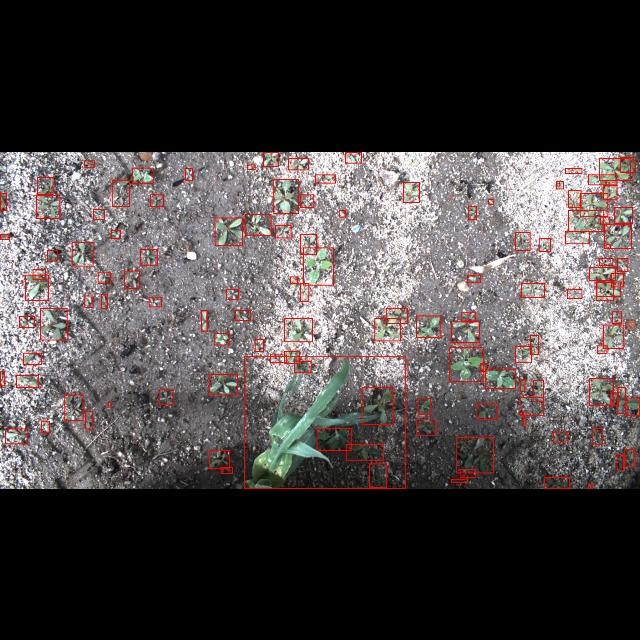crop: (244, 356, 406, 488)
weed: (456, 438, 494, 472), (449, 347, 483, 381), (362, 388, 392, 424), (303, 248, 333, 284), (41, 308, 68, 339), (274, 178, 298, 212), (215, 217, 242, 245), (317, 428, 351, 450), (568, 210, 604, 230), (599, 158, 631, 180), (284, 318, 312, 342), (589, 378, 613, 406), (604, 224, 632, 248), (580, 192, 608, 215), (25, 274, 49, 300), (346, 444, 384, 460), (208, 374, 238, 394), (485, 368, 515, 388), (375, 318, 401, 340), (451, 322, 479, 342), (245, 213, 271, 234), (36, 195, 59, 218), (417, 315, 441, 337), (602, 324, 624, 348), (72, 241, 92, 265), (112, 179, 130, 205), (65, 394, 83, 420), (520, 397, 544, 415), (369, 463, 386, 487), (597, 280, 621, 296), (589, 266, 615, 280), (209, 450, 229, 468), (6, 428, 27, 444), (387, 307, 408, 323), (596, 282, 614, 300), (403, 182, 419, 202), (133, 167, 153, 183), (300, 233, 316, 253), (565, 230, 589, 243), (522, 282, 544, 296), (477, 404, 498, 418), (615, 206, 633, 222), (37, 176, 53, 194), (140, 248, 158, 264), (124, 270, 140, 288), (416, 420, 436, 434), (588, 174, 616, 184), (16, 375, 38, 387), (544, 478, 570, 488), (515, 346, 531, 362), (516, 232, 530, 250), (626, 397, 640, 415), (288, 157, 308, 169), (620, 156, 634, 172), (22, 352, 42, 363), (534, 379, 544, 401), (618, 387, 626, 413), (568, 190, 580, 207), (264, 151, 278, 165), (159, 390, 173, 404), (603, 185, 617, 199), (418, 398, 430, 414), (284, 351, 300, 363), (295, 360, 311, 372), (276, 225, 290, 238), (300, 283, 310, 301), (625, 449, 635, 466), (300, 194, 314, 206), (611, 272, 623, 286), (592, 428, 602, 444), (214, 334, 230, 344), (566, 288, 582, 298), (345, 152, 361, 162), (315, 174, 335, 182), (531, 334, 539, 354), (150, 194, 163, 206), (226, 288, 238, 300), (539, 238, 551, 250), (554, 432, 568, 442), (20, 316, 34, 326), (236, 310, 250, 320), (32, 269, 46, 279), (201, 310, 207, 332), (270, 354, 286, 362), (460, 469, 476, 477), (616, 454, 624, 470), (618, 258, 628, 270), (98, 272, 110, 282), (612, 311, 622, 323), (468, 205, 476, 219), (148, 298, 162, 306), (462, 312, 476, 320), (610, 391, 618, 405), (94, 208, 105, 218), (0, 192, 6, 210), (47, 250, 57, 260), (468, 274, 480, 282), (86, 412, 92, 428), (255, 339, 263, 351), (41, 421, 49, 432), (0, 371, 6, 385), (101, 294, 107, 308), (185, 167, 192, 179), (520, 378, 526, 392), (85, 296, 93, 306), (597, 345, 607, 353), (600, 216, 610, 224), (220, 467, 232, 473), (600, 258, 612, 264), (556, 180, 564, 188), (566, 168, 582, 172), (112, 229, 120, 237), (451, 479, 467, 483), (84, 160, 94, 166), (480, 362, 486, 372), (290, 276, 298, 282), (340, 210, 346, 217), (0, 234, 10, 238), (488, 198, 494, 204), (247, 164, 255, 168), (524, 412, 526, 426), (588, 484, 592, 488), (606, 243, 610, 247), (108, 402, 110, 406)
